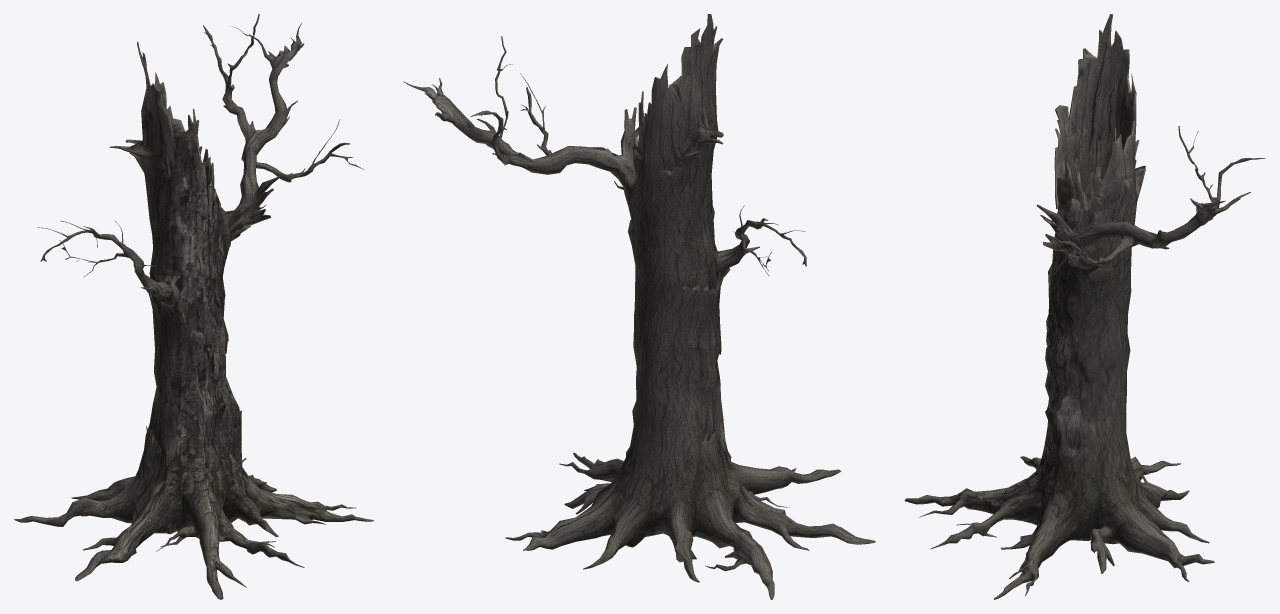
Rendered from dead-tree2.glb.
3 views of the same model, side by side, from view 1: azimuth 30°, elevation 25°; view 2: azimuth 150°, elevation 25°; view 3: azimuth 270°, elevation 25° (orthographic). The views are drawn at different scales.
Bounding box in the file's own units: 0.6733 × 0.9521 × 0.6274.
1 material, 1 textured.
